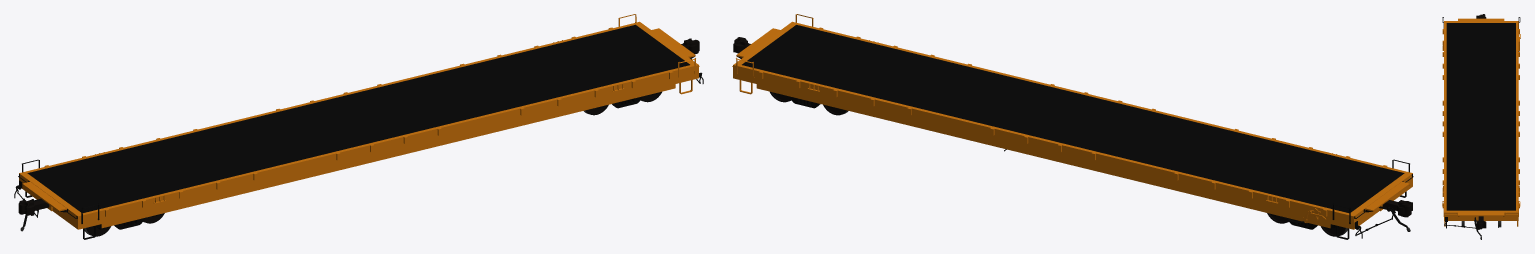
The model's file is ATTX Flatcar 1.obj.
3 views of the same model, side by side, from view 1: azimuth 30°, elevation 25°; view 2: azimuth 150°, elevation 25°; view 3: azimuth 270°, elevation 25° (orthographic). The views are drawn at different scales.
Parts seen in each view (by area): view 1: FRAME_Frame, DETAIL_Frame.001, BACK_COUPLER.001_Cube.000; view 2: FRAME_Frame, DETAIL_Frame.001; view 3: FRAME_Frame, DETAIL_Frame.001, BACK_COUPLER.000_Cube.001.
Boxes of the visible parts, left/top/right/bottom form: FRAME_Frame: left=14, top=14, right=703, bottom=239; DETAIL_Frame.001: left=44, top=22, right=673, bottom=216; BACK_COUPLER.001_Cube.000: left=18, top=200, right=49, bottom=215; FRAME_Frame: left=732, top=14, right=1413, bottom=239; DETAIL_Frame.001: left=736, top=27, right=1387, bottom=222; FRAME_Frame: left=1442, top=17, right=1520, bottom=239; DETAIL_Frame.001: left=1442, top=29, right=1520, bottom=216; BACK_COUPLER.000_Cube.001: left=1476, top=216, right=1486, bottom=229.
Bounding box in the file's own units: 20.24 × 1.36 × 3.2.
